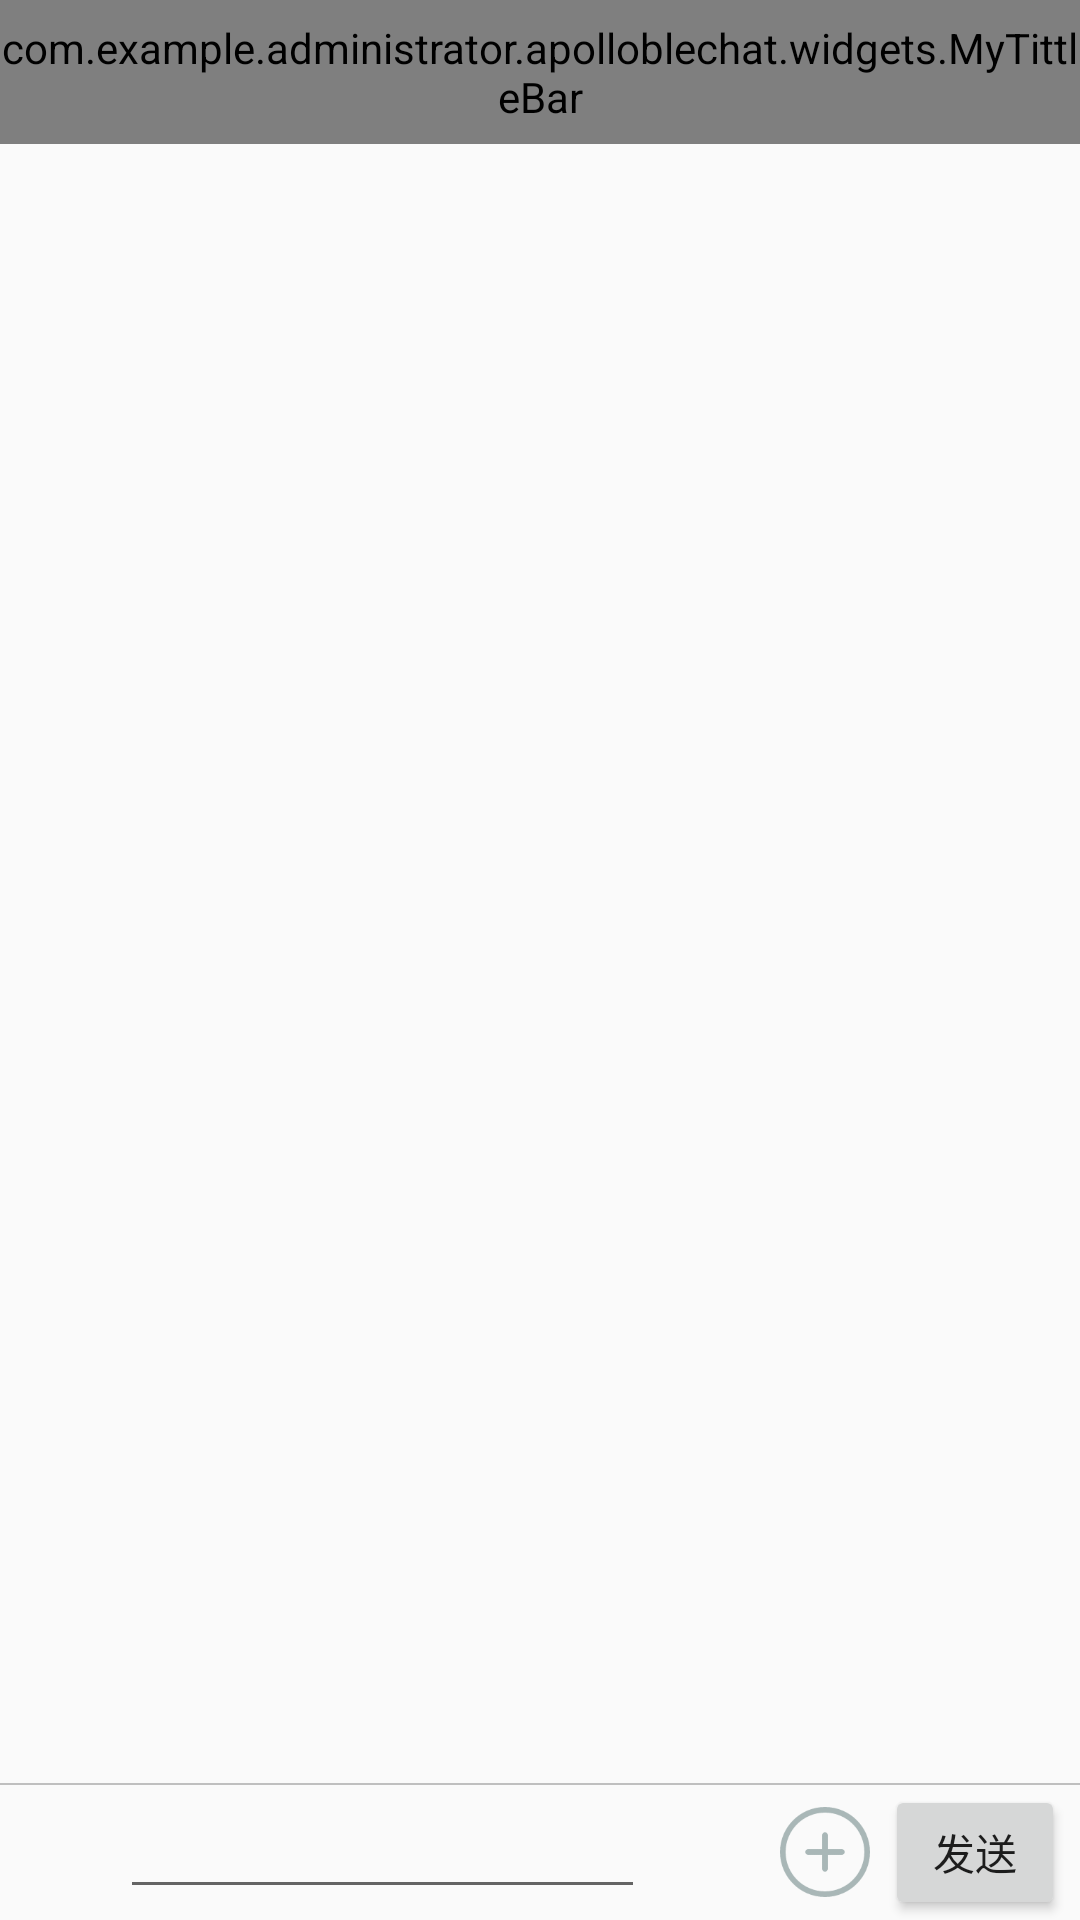

Screen size 1080x1920. Icon name, then its box in pixels as BBox(x1, y1, x2, y2):
chat add: BBox(780, 1807, 870, 1897)
